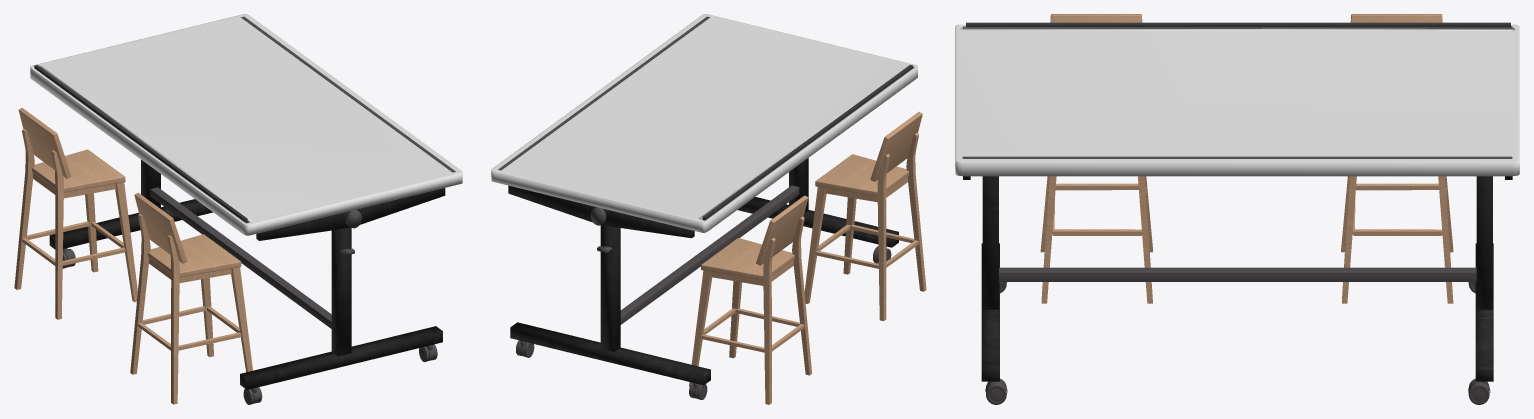
The model's file is MESA.glb.
3 views of the same model, side by side, from view 1: azimuth 30°, elevation 25°; view 2: azimuth 150°, elevation 25°; view 3: azimuth 270°, elevation 25° (orthographic). The views are drawn at different scales.
Visible parts, largest first — view 1: Plane.001; view 2: Plane.001; view 3: Plane.001.
Boxes of the visible parts, left/top/right/bottom form: Plane.001: left=14, top=14, right=462, bottom=404; Plane.001: left=491, top=14, right=926, bottom=404; Plane.001: left=955, top=14, right=1519, bottom=404.
Bounding box in the file's own units: 1.12 × 0.8153 × 1.63.
10 materials, 3 textured.
